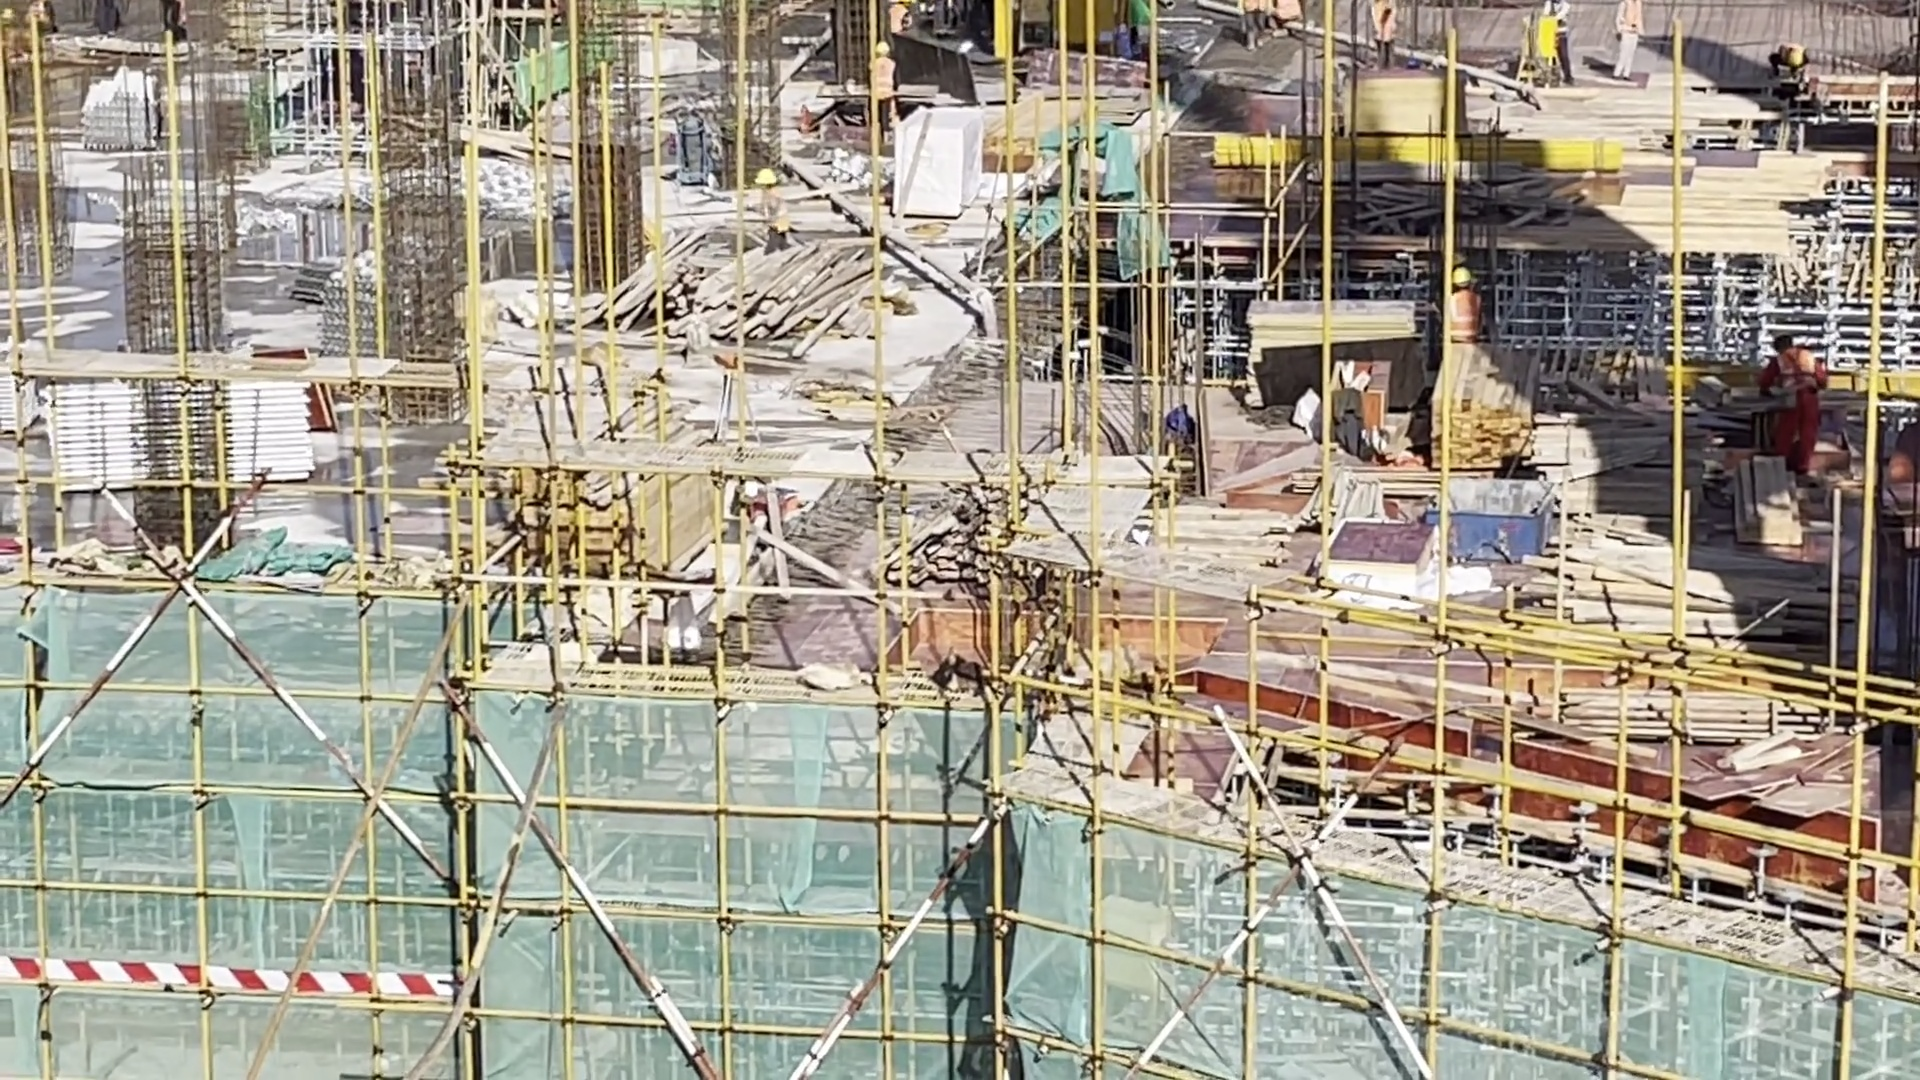board: (1680, 724, 1870, 833)
helmet: (1448, 260, 1481, 291), (755, 165, 777, 192), (737, 476, 760, 497), (870, 39, 891, 59)
hopper: (1419, 457, 1556, 568)
person: (1761, 335, 1835, 473), (731, 477, 807, 544), (744, 165, 799, 255), (865, 39, 901, 143), (1444, 257, 1484, 346), (1367, 1, 1408, 73), (1535, 1, 1564, 85), (1613, 1, 1641, 84), (1760, 46, 1809, 80), (160, 1, 187, 40)
scaffold: (48, 361, 312, 490)
vest: (1770, 346, 1828, 413), (868, 61, 898, 111), (755, 185, 788, 230), (1611, 1, 1639, 40), (1450, 290, 1476, 331), (1373, 1, 1398, 42)
wood: (611, 242, 882, 357), (1551, 686, 1778, 741), (1432, 342, 1527, 455)
